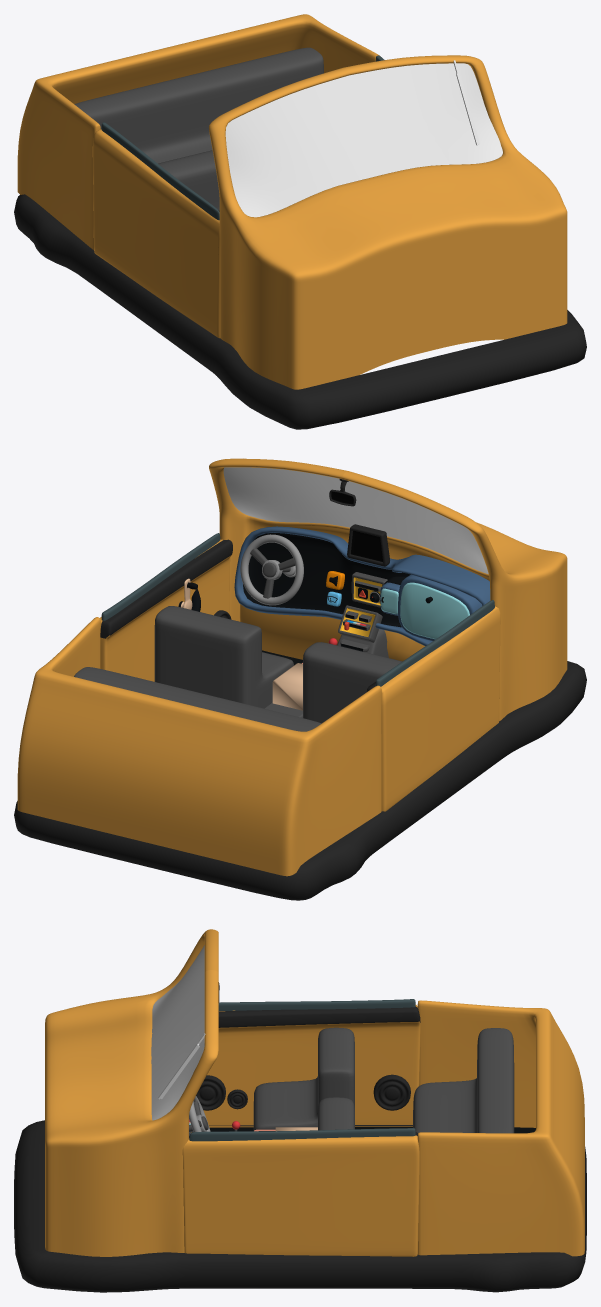
Rendered from CarInteractable_Centered.fbx.
3 renders of one model, top to bottom at view 1: azimuth 30°, elevation 25°; view 2: azimuth 150°, elevation 25°; view 3: azimuth 270°, elevation 25°, orthographic. The views are drawn at different scales.
Parts seen in each view (by area): view 1: Car_body, Windshield, Front_Window; view 2: Car_body, Windshield, Cabinet_door, Front_Window, steering, Map_Screen, A/C_Box, Casette_Box, Casette_box; view 3: Car_body, Windshield, Front_Window, steering.
Part boxes in pixels (x1=…): Car_body: x1=14, y1=14, x2=586, y2=429; Windshield: x1=225, y1=63, x2=502, y2=217; Front_Window: x1=101, y1=55, x2=384, y2=220; Car_body: x1=14, y1=458, x2=586, y2=900; Windshield: x1=223, y1=467, x2=488, y2=573; Cabinet_door: x1=400, y1=582, x2=469, y2=639; Front_Window: x1=101, y1=533, x2=494, y2=686; steering: x1=240, y1=534, x2=303, y2=605; Map_Screen: x1=347, y1=524, x2=389, y2=566; A/C_Box: x1=338, y1=605, x2=382, y2=642; Casette_Box: x1=272, y1=663, x2=302, y2=710; Casette_box: x1=351, y1=572, x2=387, y2=607; Car_body: x1=14, y1=929, x2=586, y2=1292; Windshield: x1=151, y1=945, x2=204, y2=1120; Front_Window: x1=189, y1=999, x2=415, y2=1141; steering: x1=189, y1=1096, x2=210, y2=1132.
Bounding box in the file's own units: 2.32 × 3.74 × 1.81.
